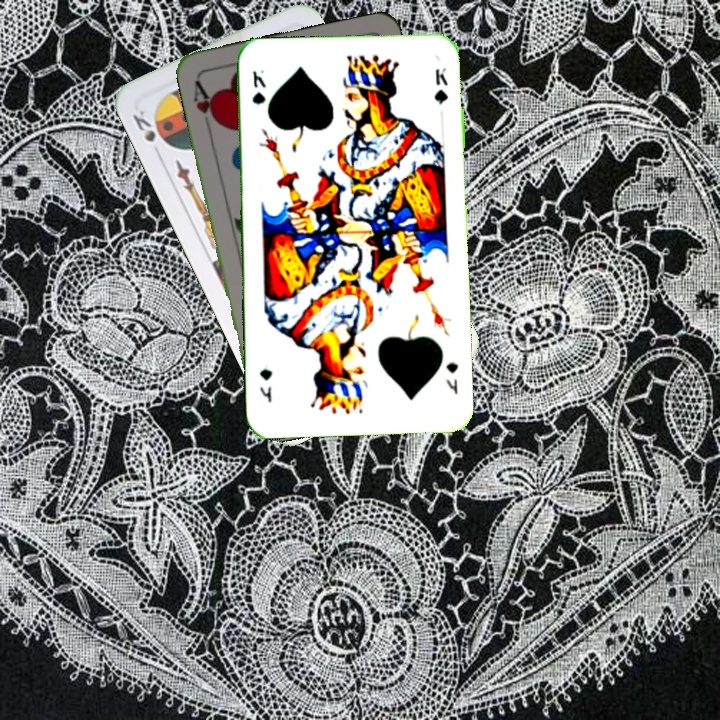GK: (248, 66, 269, 107), (442, 358, 461, 397)
HA: (189, 76, 222, 134)
SK: (128, 105, 164, 160)
